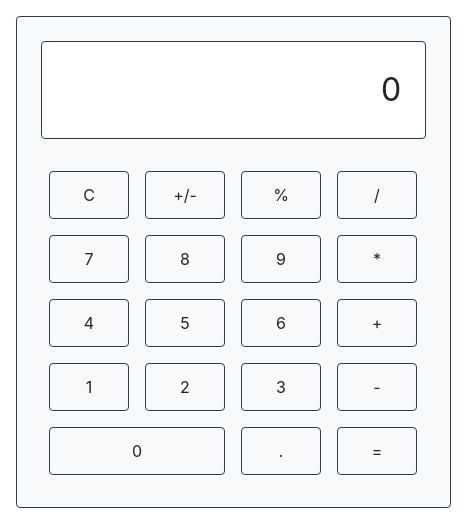
Scenario: basic button presses › should display numbers
Click the button "5" at (185, 323), box [145,299,225,347]
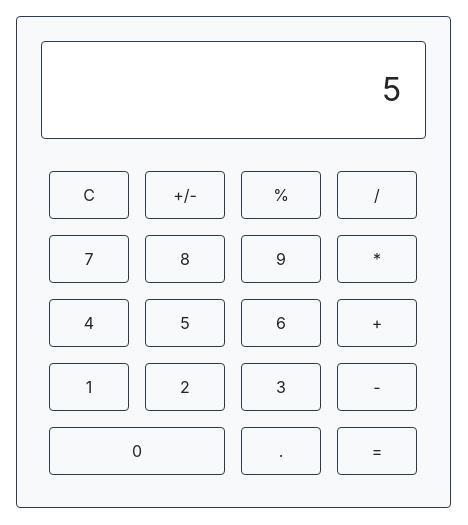
Click the button "3" at (281, 387), box [241,363,321,411]
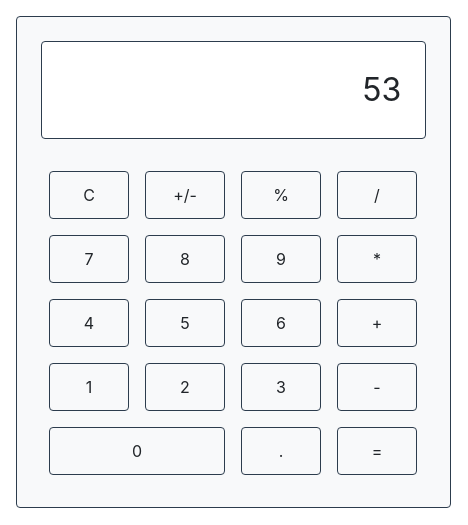
Expected: the text with class "displayValue" reads "53", [362,70,401,109]
